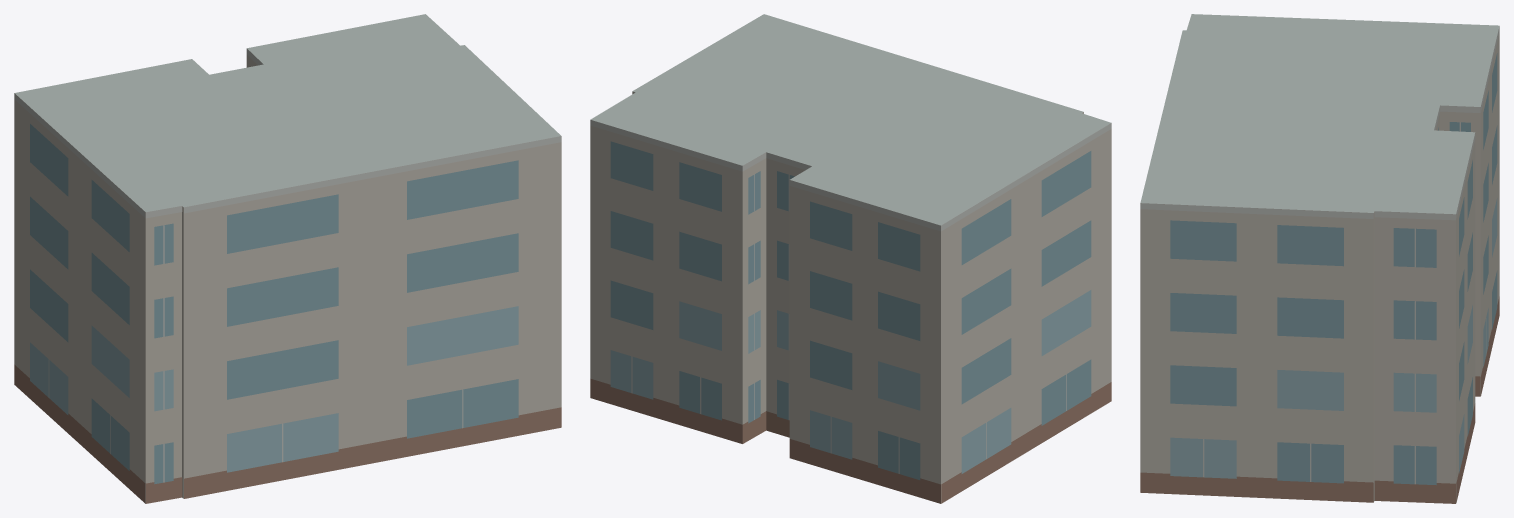
File: survey-upis-32670739.glb
3 views of the same model, side by side, from view 1: azimuth 30°, elevation 25°; view 2: azimuth 150°, elevation 25°; view 3: azimuth 270°, elevation 25° (orthographic). The views are drawn at different scales.
Visible parts, largest first — view 1: survey-upis-32670739.tmp; view 2: survey-upis-32670739.tmp; view 3: survey-upis-32670739.tmp.
Part boxes in pixels (x1,y1,x2,y2): survey-upis-32670739.tmp: (14, 14, 561, 503); survey-upis-32670739.tmp: (590, 14, 1111, 503); survey-upis-32670739.tmp: (1140, 14, 1499, 503).
Size of the model in its own units: 17.21 by 11.6 by 13.05.
